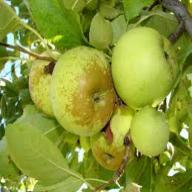apple: (51, 51, 112, 132), (116, 31, 180, 106), (84, 102, 140, 172), (28, 49, 68, 119), (130, 109, 172, 154)
